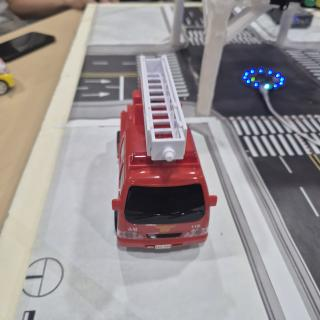Fire_truck: (112, 56, 217, 249)
